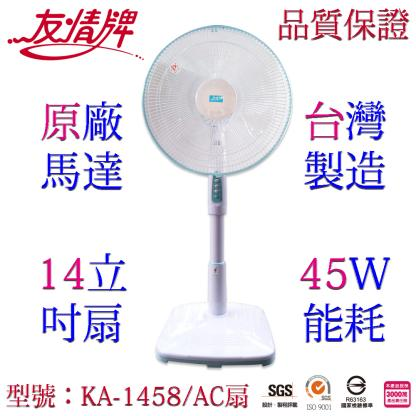fan: (138, 18, 295, 375)
